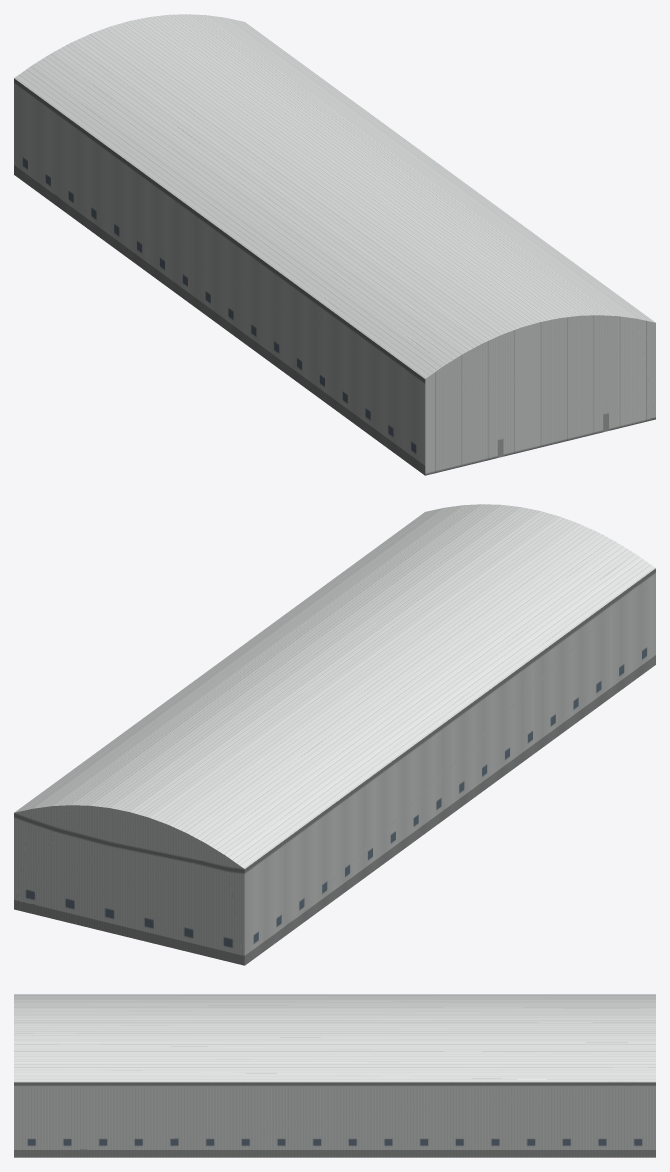
The model's file is khsv_hangar_35x108.glb.
The picture shows the model from 3 angles, top to bottom: view 1: azimuth 30°, elevation 25°; view 2: azimuth 150°, elevation 25°; view 3: azimuth 270°, elevation 25°; orthographic projection. The views are drawn at different scales.
Visible parts, largest first — view 1: khsv_hangar_35x108_hangar_roof, khsv_hangar_35x108_hangar_wall, khsv_hangar_35x108_hangar_door; view 2: khsv_hangar_35x108_hangar_roof, khsv_hangar_35x108_hangar_wall; view 3: khsv_hangar_35x108_hangar_roof, khsv_hangar_35x108_hangar_wall.
Part boxes in pixels (bbox=[...]): khsv_hangar_35x108_hangar_roof: bbox=[14, 14, 655, 378]; khsv_hangar_35x108_hangar_wall: bbox=[14, 78, 425, 475]; khsv_hangar_35x108_hangar_door: bbox=[425, 315, 655, 475]; khsv_hangar_35x108_hangar_roof: bbox=[14, 504, 655, 868]; khsv_hangar_35x108_hangar_wall: bbox=[14, 568, 655, 965]; khsv_hangar_35x108_hangar_roof: bbox=[14, 994, 655, 1082]; khsv_hangar_35x108_hangar_wall: bbox=[14, 1082, 655, 1157].
Size of the model in its own units: 35 by 18.2 by 108.
3 materials, 3 textured.
